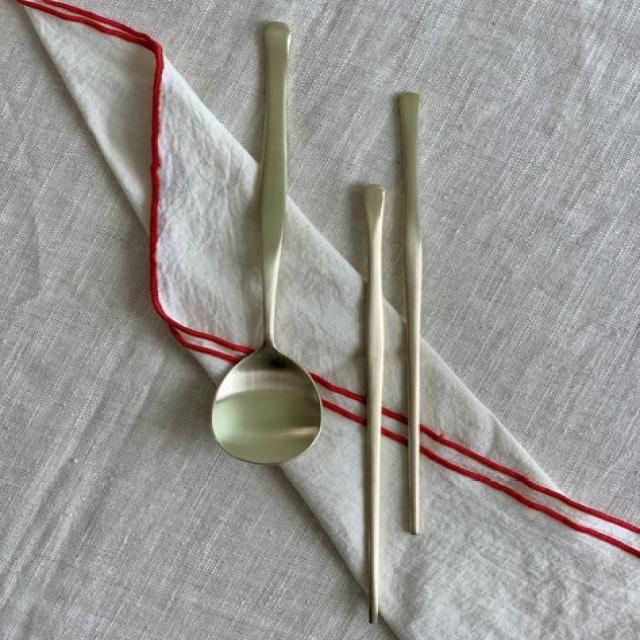spoon: (206, 3, 340, 471)
